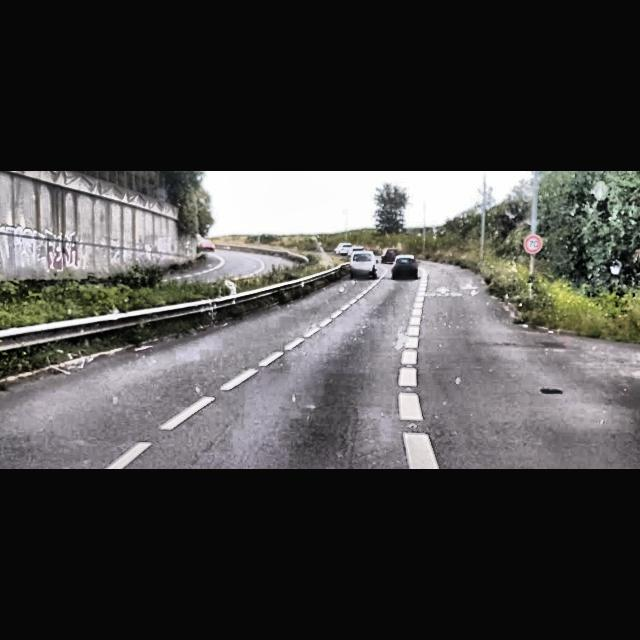speed_70: (524, 236, 542, 252)
